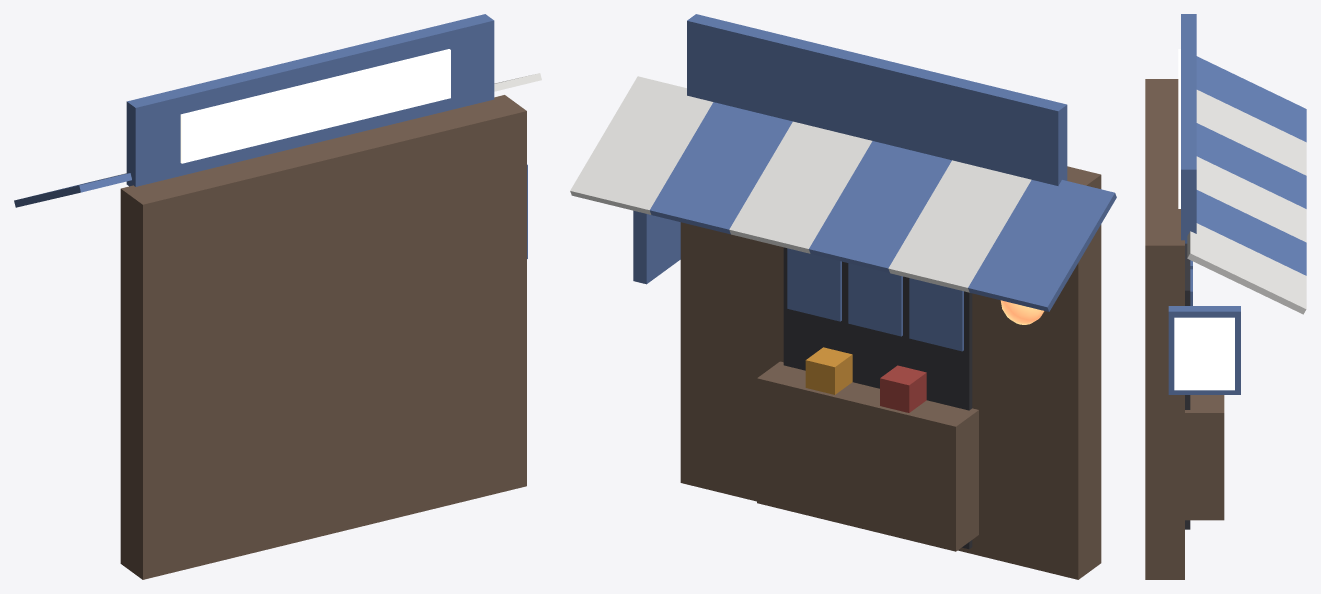
File: prop_mise_hon.glb
3 renders of one model, left to right at view 1: azimuth 30°, elevation 25°; view 2: azimuth 150°, elevation 25°; view 3: azimuth 270°, elevation 25°, orthographic. The views are drawn at different scales.
Visible parts, largest first — view 1: mise_hon; view 2: mise_hon; view 3: mise_hon.
Part boxes in pixels (bbox=[...]): mise_hon: bbox=[14, 14, 541, 579]; mise_hon: bbox=[570, 14, 1116, 579]; mise_hon: bbox=[1145, 14, 1306, 579].
Bounding box in the file's own units: 3.6 × 3.39 × 1.22.
